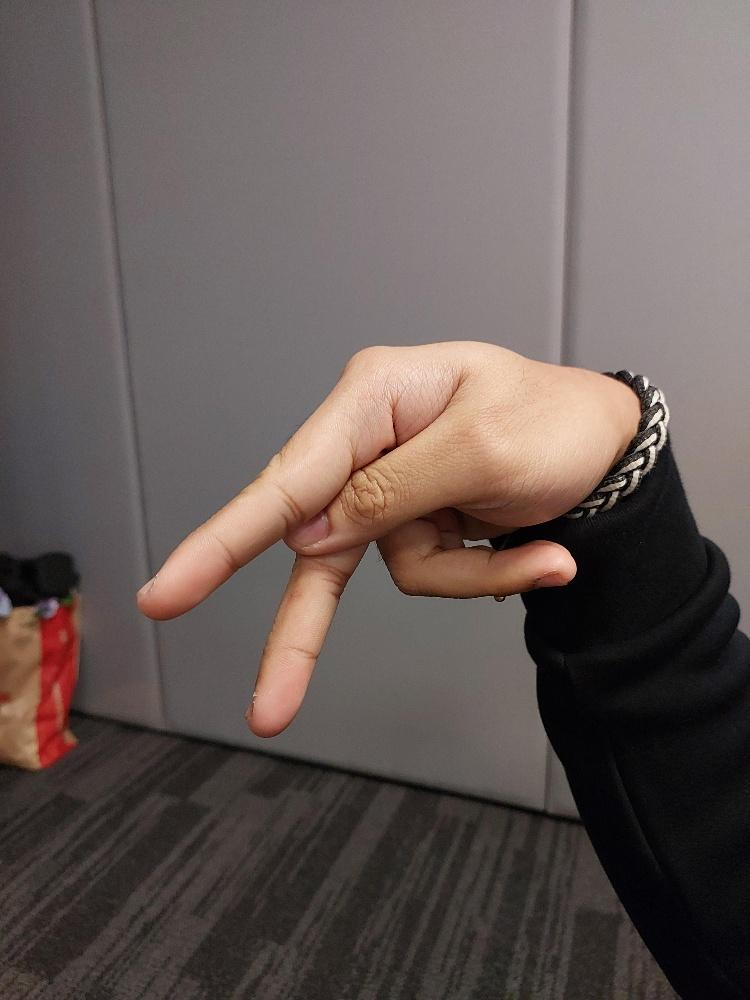p: (133, 337, 634, 739)
